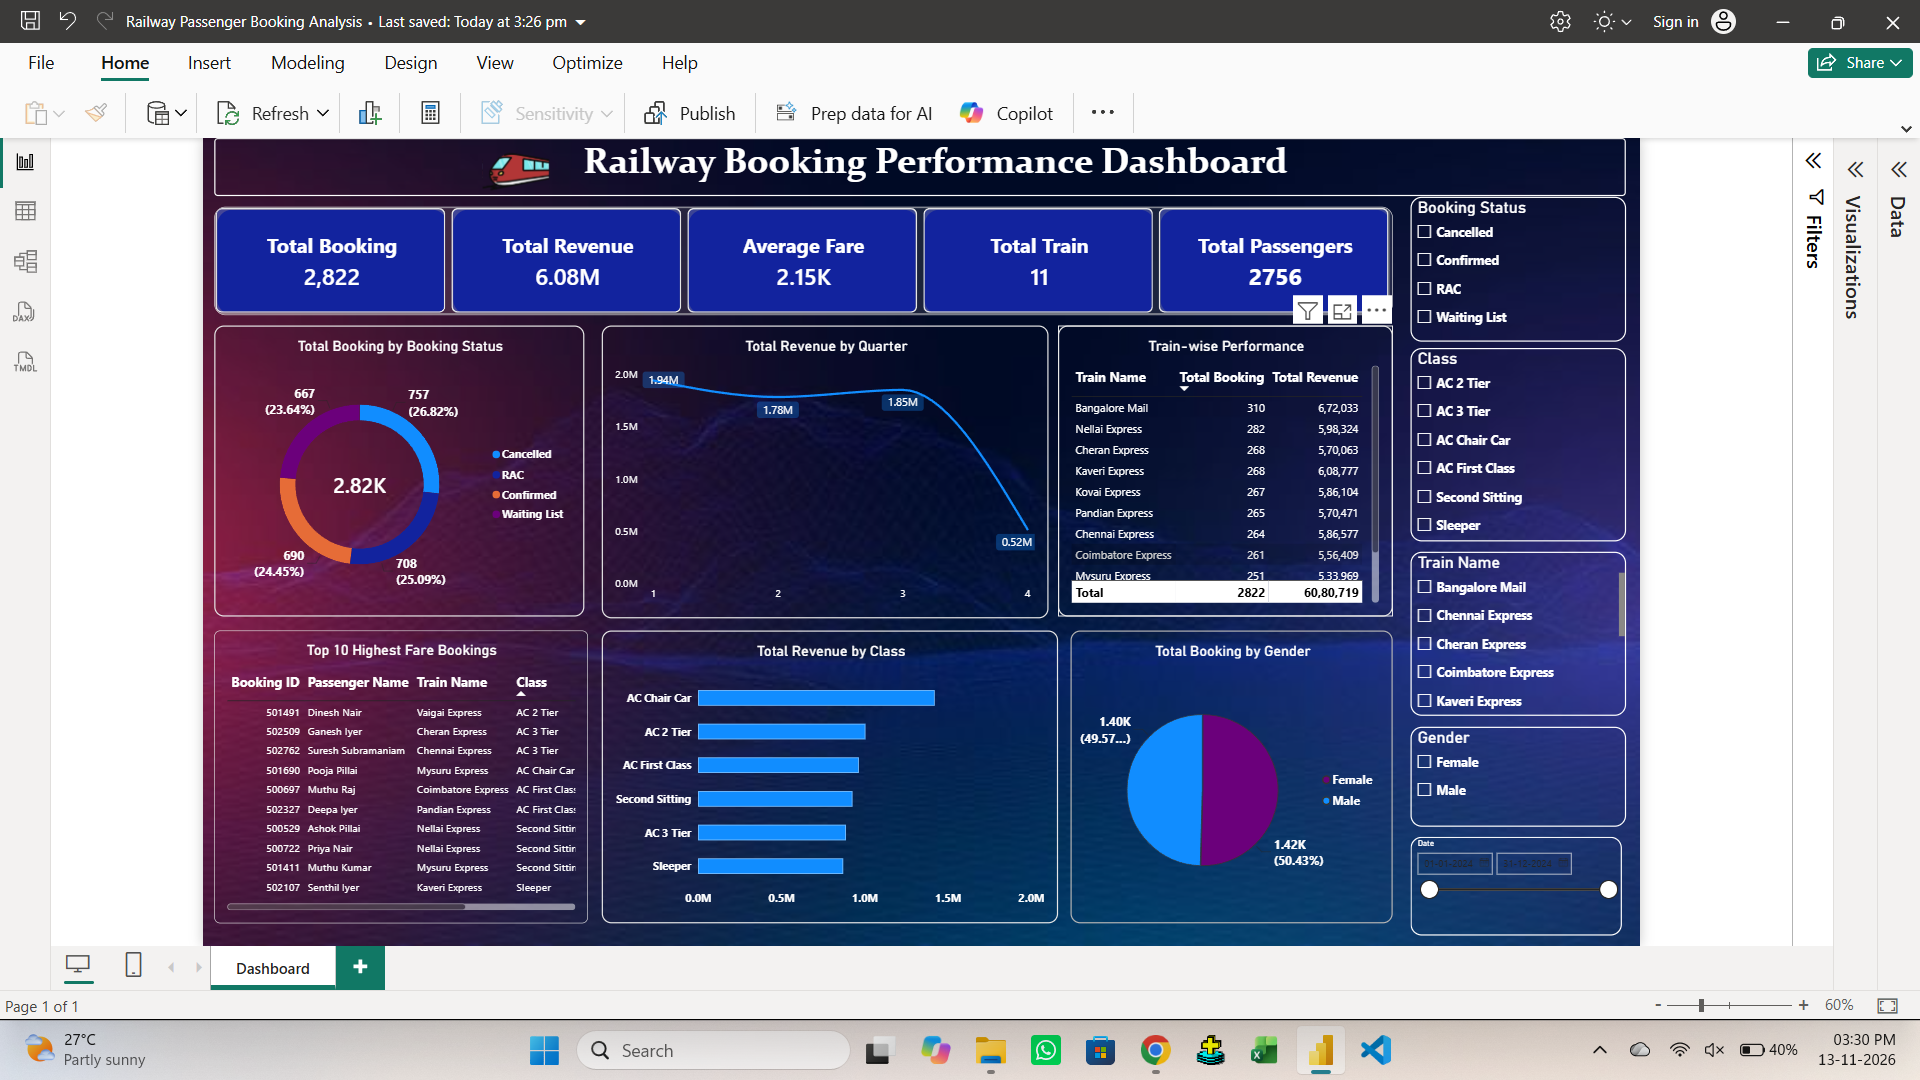

The dashboard page shown, as its layout file describes it:
{"tool":"powerbi","page":{"name":"Dashboard","canvas":[1920,1080],"ordinal":0},"visuals":[{"type":"textbox","box":[14.5,0,1885.7,77.8],"z":0},{"type":"actionButton","box":[334.8,0,179.2,77.8],"z":1000},{"type":"cardVisual","fields":{"Data":["Fact Booking.Total Booking","Fact Booking.Total Revenue","Fact Booking.Average Fare","Dim Train.Total Train","Dim Passenger.Total Passengers"]},"box":[14.5,92.3,1574.4,144.8],"z":2000},{"type":"slicer","fields":{"Values":["Fact Booking.Class"]},"box":[1612.4,280.5,287.7,258.8],"z":3000},{"type":"slicer","fields":{"Values":["Fact Booking.Booking Status"]},"box":[1612.4,77.8,287.7,193.6],"z":4000},{"type":"slicer","fields":{"Values":["Dim Passenger.Gender"]},"box":[1612.4,787.2,287.7,133.9],"z":5000},{"type":"slicer","fields":{"Values":["Dim Train.Train Name"]},"box":[1612.4,551.9,287.7,219],"z":6000},{"type":"slicer","fields":{"Values":["Dim Calendar.Date"]},"box":[1612.4,933.8,282.3,132.1],"z":7000},{"type":"donutChart","title":"Total Booking by Booking  Status","fields":{"Category":["Fact Booking.Booking Status"],"Y":["Fact Booking.Total Booking"]},"box":[14.5,249.7,494,389.1],"z":8000},{"type":"barChart","fields":{"Category":["Fact Booking.Class"],"Y":["Fact Booking.Total Revenue"]},"box":[532,658.7,609.9,390.9],"z":9000},{"type":"lineChart","fields":{"Category":["Dim Calendar.Quarter"],"Y":["Fact Booking.Total Revenue"]},"box":[532,249.7,597.2,390.9],"z":10000},{"type":"pieChart","fields":{"Category":["Dim Passenger.Gender"],"Y":["Fact Booking.Total Booking"]},"box":[1158.2,658.7,430.7,390.9],"z":11000},{"type":"tableEx","title":"Train-wise Performance","fields":{"Values":["Dim Train.Train Name","Fact Booking.Total Booking","Fact Booking.Total Revenue"]},"box":[1141.9,249.7,447,389.1],"z":12000},{"type":"tableEx","title":"Top 10 Highest Fare Bookings","fields":{"Values":["Fact Booking.Booking ID","Dim Passenger.Passenger Name","Dim Train.Train Name","Fact Booking.Class","Fact Booking.Booking Status","Fact Booking.Fare"]},"box":[14.5,658.7,499.5,390.9],"z":13000}]}

Visuals, with their boxes on the page's 1920x1080 design canvas (x1, y1, x2, y2). These are canvas units, not pixel positions in the 1920x1080 screenshot, which may show the page scaled, cropped or inside an application window:
textbox: [left=14, top=0, right=1900, bottom=78]
actionButton: [left=335, top=0, right=514, bottom=78]
cardVisual - Fact Booking.Total Booking x Fact Booking.Total Revenue: [left=14, top=92, right=1589, bottom=237]
slicer - Fact Booking.Class: [left=1612, top=280, right=1900, bottom=539]
slicer - Fact Booking.Booking Status: [left=1612, top=78, right=1900, bottom=271]
slicer - Dim Passenger.Gender: [left=1612, top=787, right=1900, bottom=921]
slicer - Dim Train.Train Name: [left=1612, top=552, right=1900, bottom=771]
slicer - Dim Calendar.Date: [left=1612, top=934, right=1895, bottom=1066]
"Total Booking by Booking  Status" donutChart: [left=14, top=250, right=508, bottom=639]
barChart - Fact Booking.Class x Fact Booking.Total Revenue: [left=532, top=659, right=1142, bottom=1050]
lineChart - Dim Calendar.Quarter x Fact Booking.Total Revenue: [left=532, top=250, right=1129, bottom=641]
pieChart - Dim Passenger.Gender x Fact Booking.Total Booking: [left=1158, top=659, right=1589, bottom=1050]
"Train-wise Performance" tableEx: [left=1142, top=250, right=1589, bottom=639]
"Top 10 Highest Fare Bookings" tableEx: [left=14, top=659, right=514, bottom=1050]
